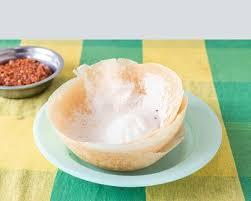Hoppers: (46, 53, 198, 172)
Lunu sambol: (0, 38, 57, 103)
